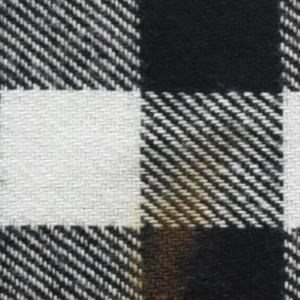Oil Stain: (119, 135, 237, 300)
